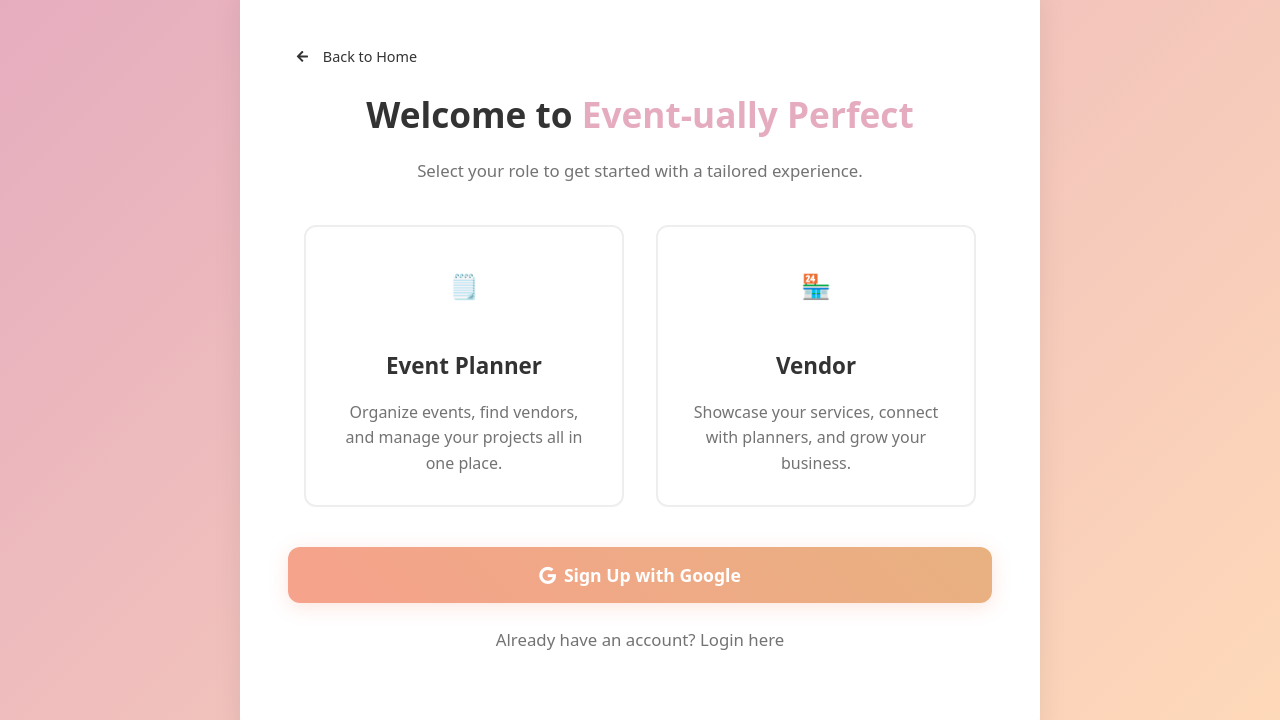
Test case: Component & integratrion tests(more) › closes role warning modal when clicking close
This screenshot has width=1280, height=720.
(page scrolled)
Note: Trigger role warning
Click the button "Sign Up with Google" at (640, 575), box [288,547,992,603]
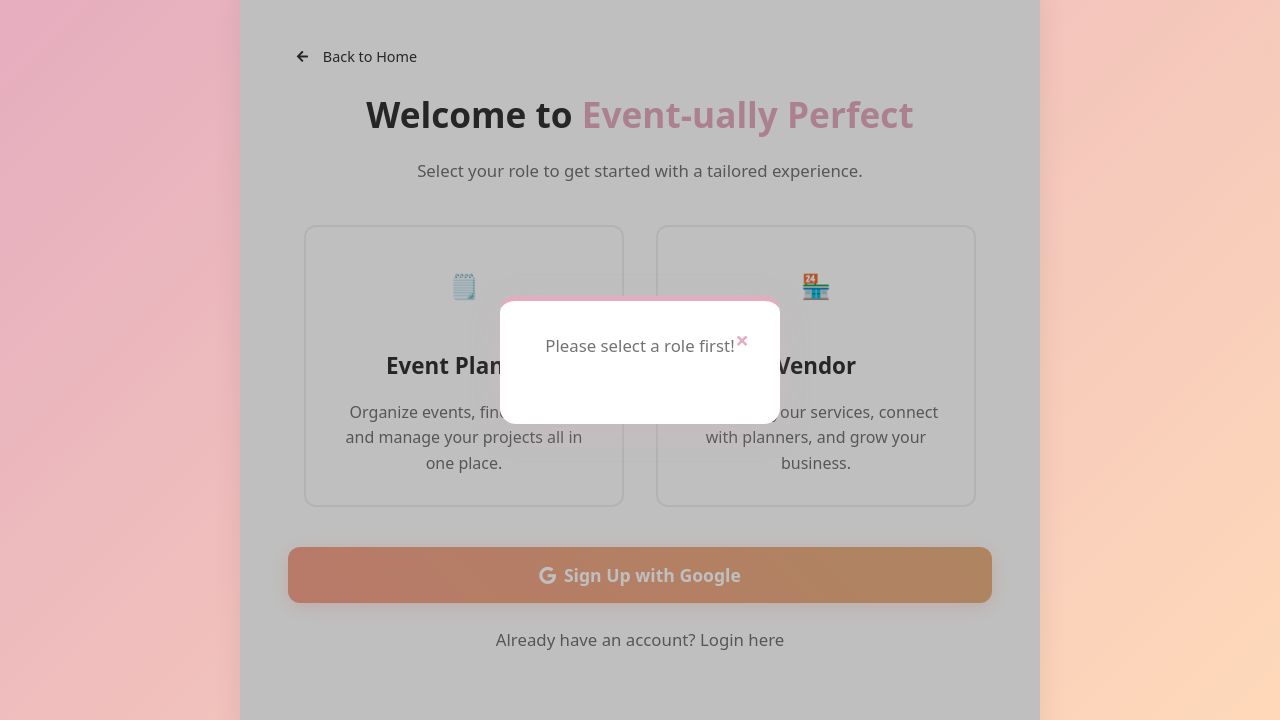
Note: Close the warning
Click the button "×" at (742, 339), box [720,317,764,361]
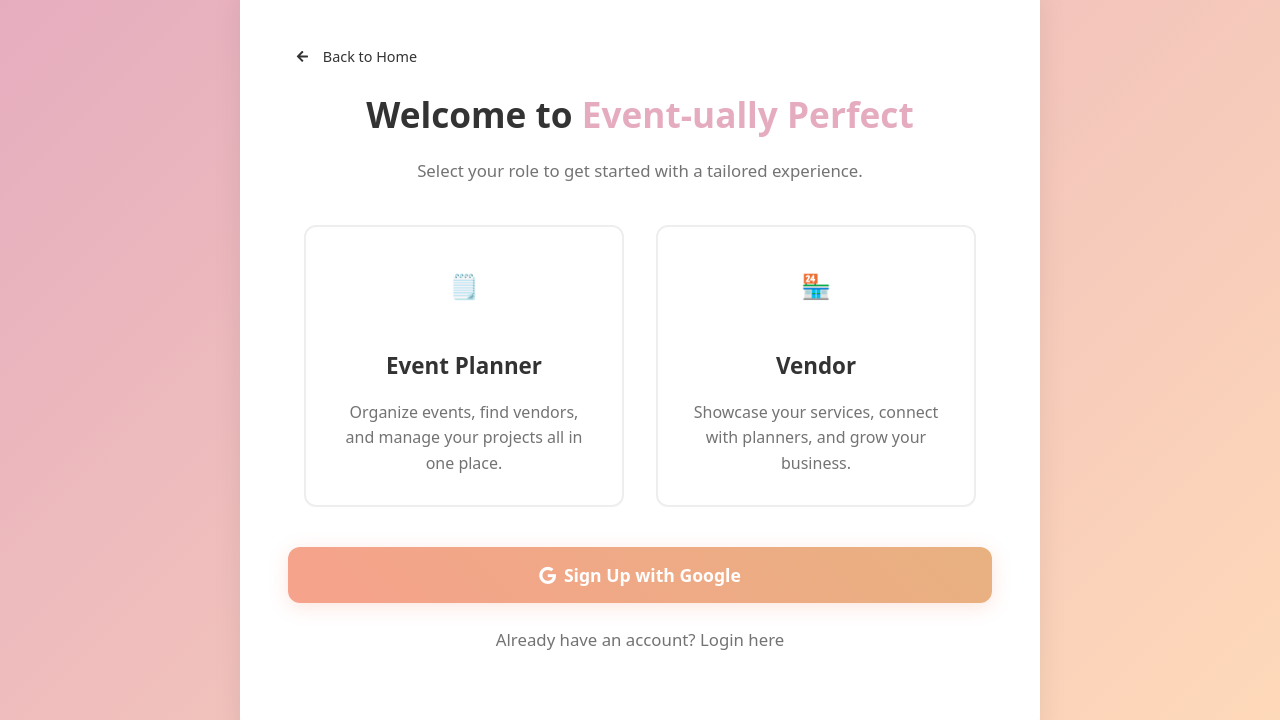
Check: the text "Please select a role first!" is gone
